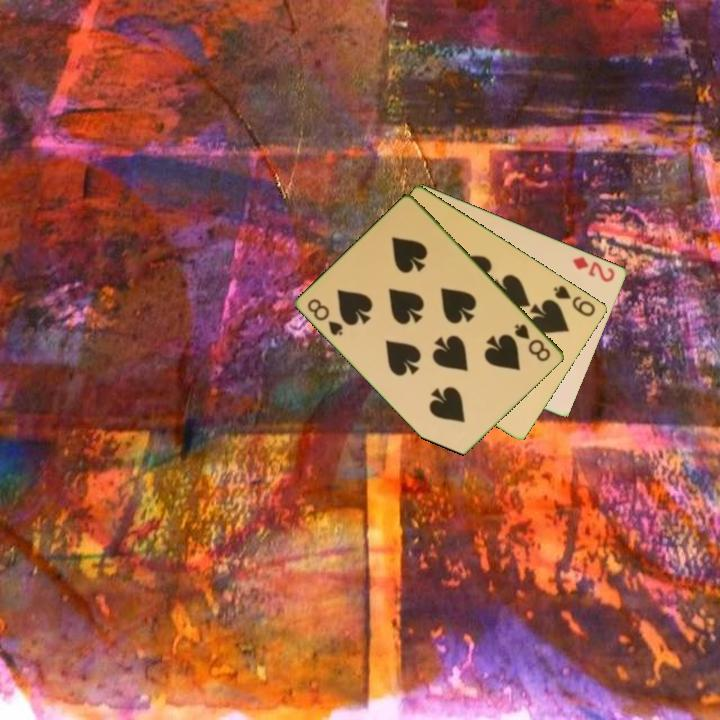2d: (570, 253, 618, 285)
8s: (511, 320, 554, 364), (304, 295, 346, 339)
9s: (550, 281, 599, 319)
